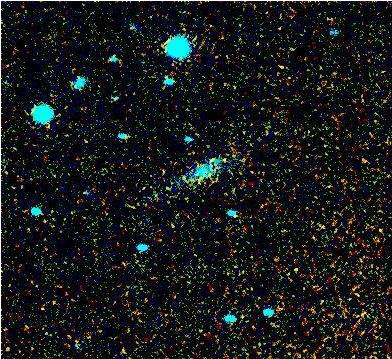star: (197, 144, 227, 174)
